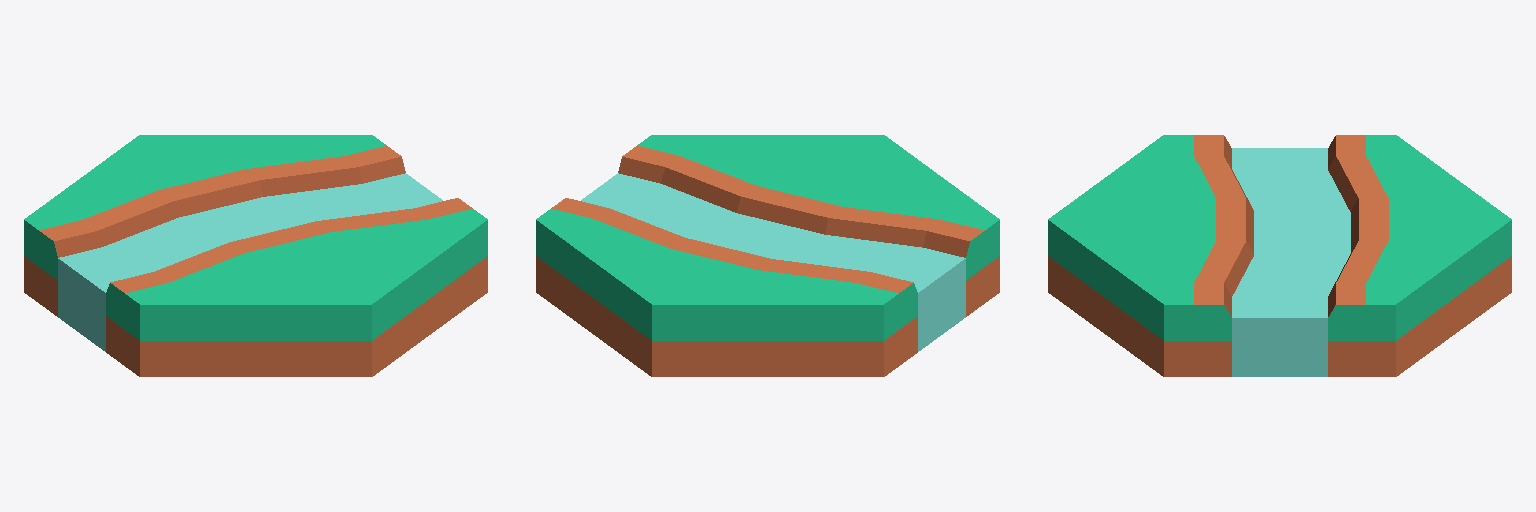
File: river_straight.obj
3 renders of one model, left to right at view 1: azimuth 30°, elevation 25°; view 2: azimuth 150°, elevation 25°; view 3: azimuth 270°, elevation 25°, orthographic.
Visible parts, largest first — view 1: river_straight; view 2: river_straight; view 3: river_straight.
Boxes of the visible parts, x1,y1,x2,y2 form: river_straight: [24, 135, 487, 376]; river_straight: [536, 135, 999, 376]; river_straight: [1048, 135, 1511, 376].
Bounding box in the file's own units: 1 × 0.2 × 1.15.